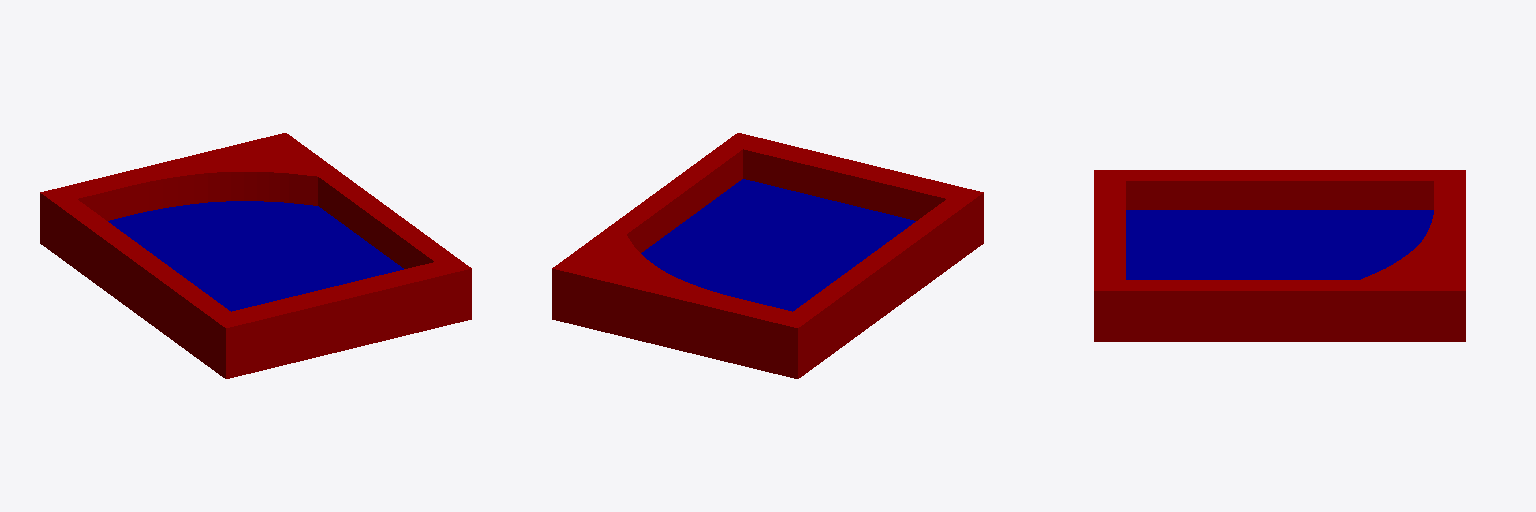
File: pinballbox.obj
3 views of the same model, side by side, from view 1: azimuth 30°, elevation 25°; view 2: azimuth 150°, elevation 25°; view 3: azimuth 270°, elevation 25° (orthographic).
Parts seen in each view (by area): view 1: Cube; view 2: Cube; view 3: Cube.
Boxes of the visible parts, x1=… form: Cube: x1=40, y1=133, x2=471, y2=378; Cube: x1=552, y1=133, x2=983, y2=378; Cube: x1=1094, y1=170, x2=1465, y2=341.
Size of the model in its own units: 10.09 by 2 by 13.21.